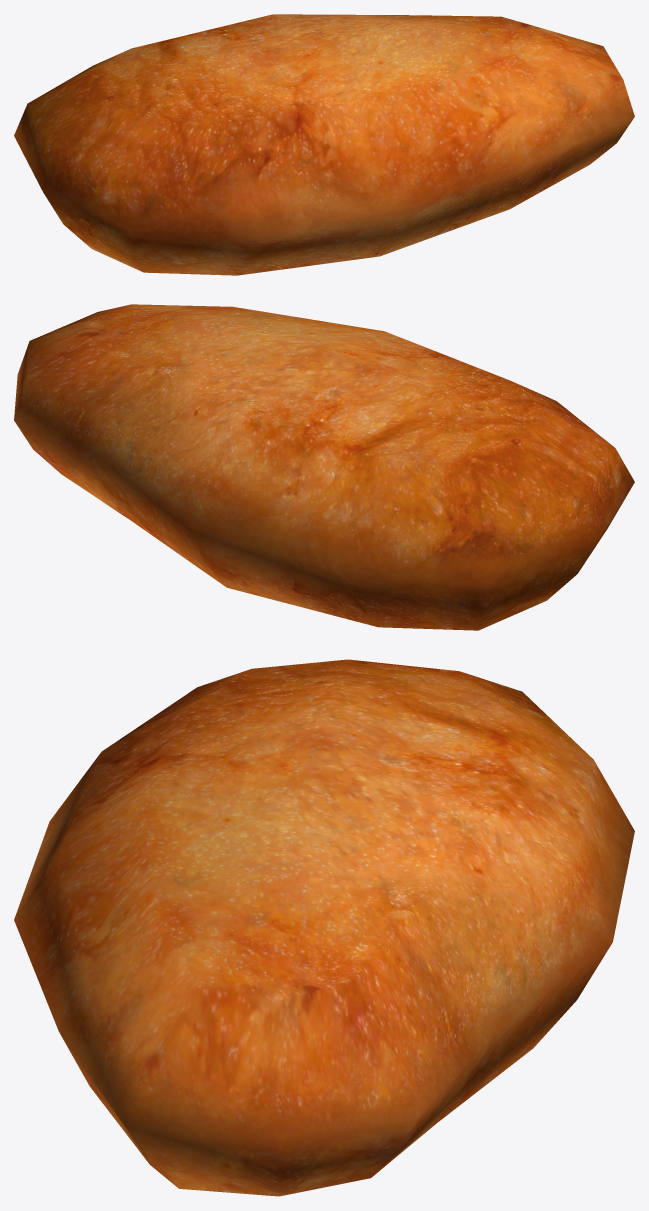
Rendered from FFHP_MOD_Fried_chicken.fbx.
3 renders of one model, top to bottom at view 1: azimuth 30°, elevation 25°; view 2: azimuth 150°, elevation 25°; view 3: azimuth 270°, elevation 25°, orthographic. The views are drawn at different scales.
Visible parts, largest first — view 1: FFHP_MOD_Fried_chicken; view 2: FFHP_MOD_Fried_chicken; view 3: FFHP_MOD_Fried_chicken.
Part boxes in pixels (box(x1,y1,x2,y2)): FFHP_MOD_Fried_chicken: box(14, 14, 634, 275); FFHP_MOD_Fried_chicken: box(14, 304, 634, 630); FFHP_MOD_Fried_chicken: box(14, 659, 634, 1196).
Bounding box in the file's own units: 0.6312 × 0.2087 × 0.3917.
